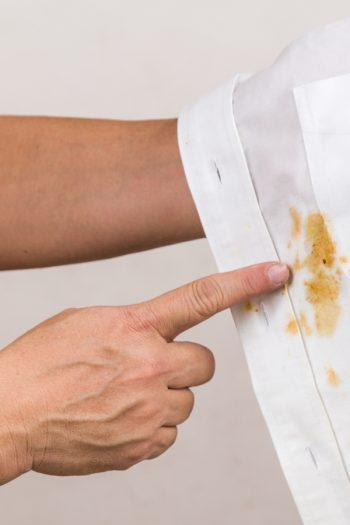gun: (273, 198, 337, 338), (320, 362, 338, 385)
